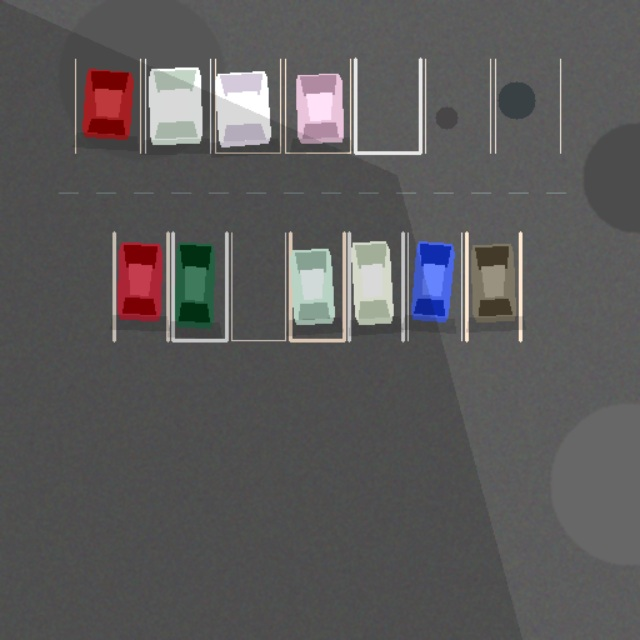space-empty: (355, 59, 420, 152), (425, 59, 490, 152), (495, 59, 560, 152), (231, 233, 285, 340)
space-occupied: (75, 59, 140, 152), (145, 59, 210, 152), (215, 59, 280, 152), (285, 59, 350, 152), (114, 233, 168, 340), (172, 233, 226, 340), (290, 233, 344, 340), (466, 233, 520, 340), (349, 233, 402, 340), (408, 233, 461, 340)
